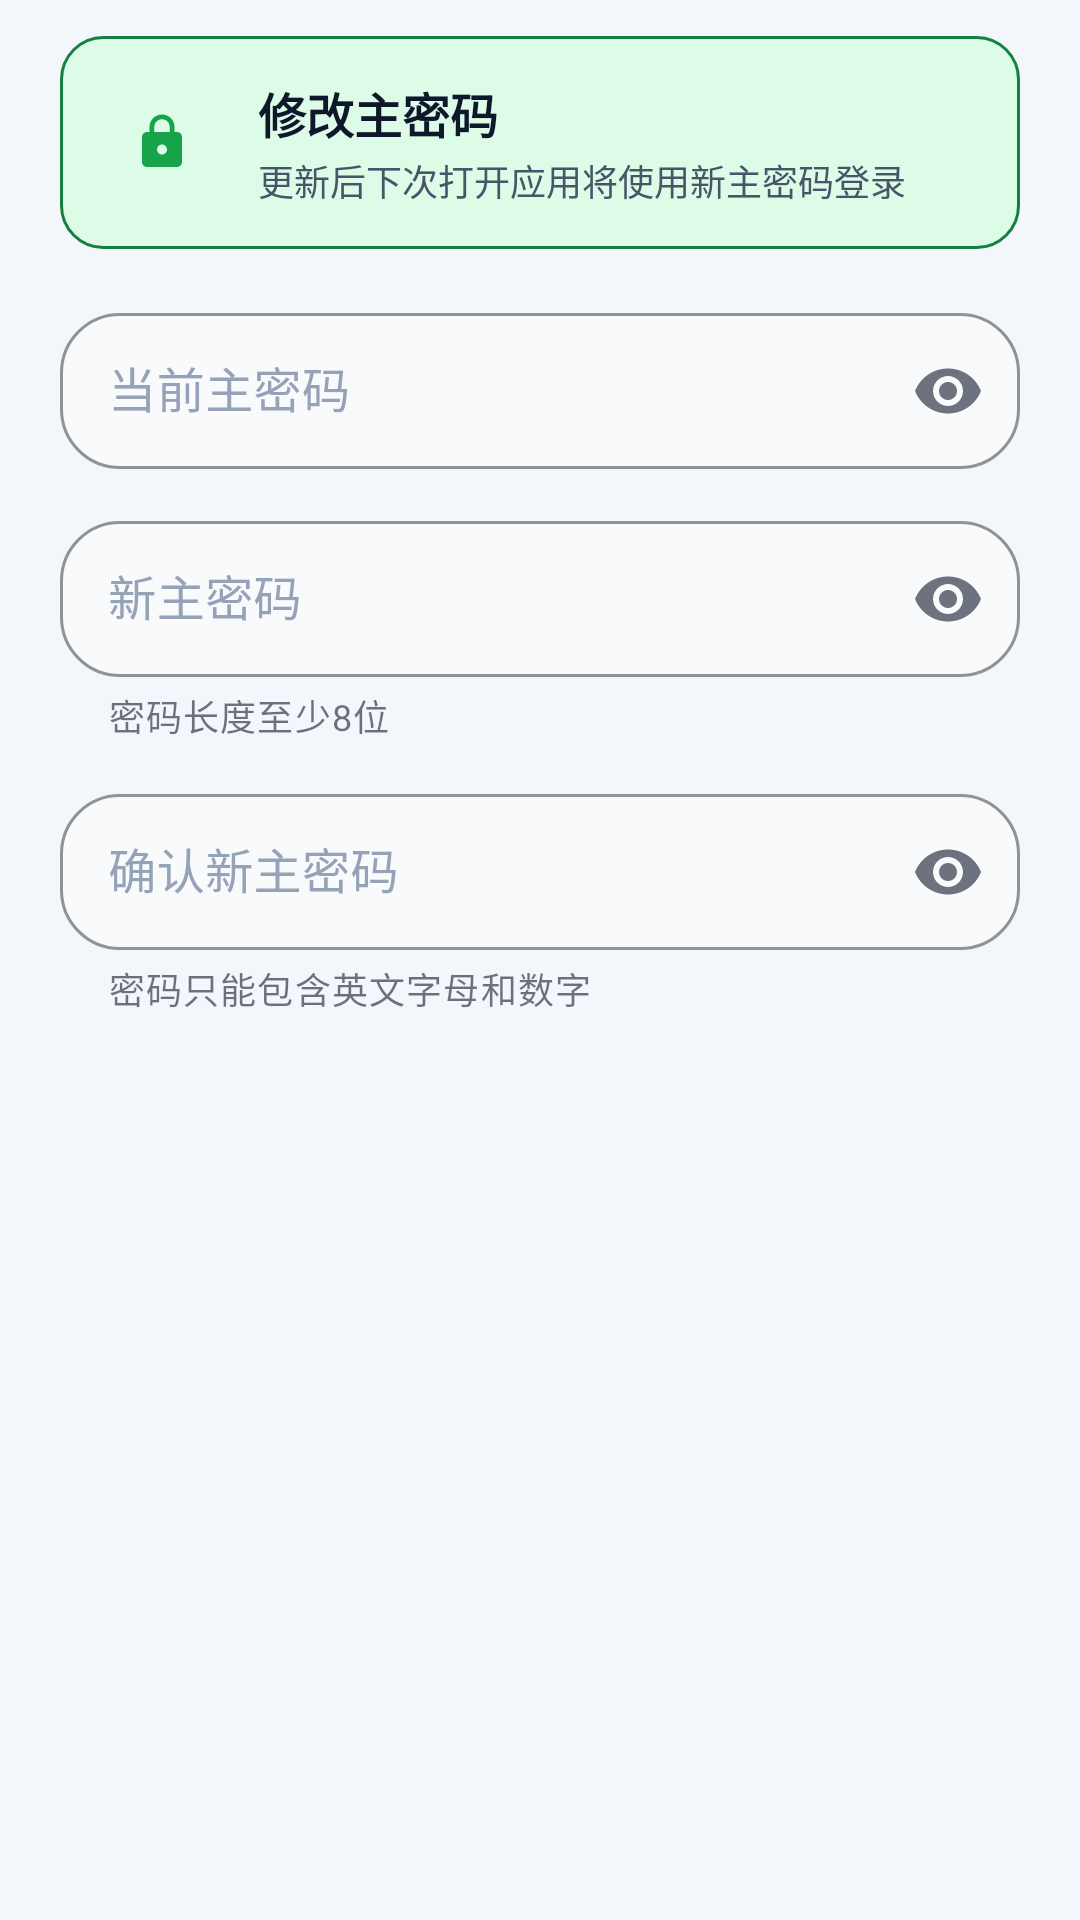

Named icons in this screenshot (1080w x 1920h) and their bounding boxes, bbox=(x1, y1, x2, y2):
lock: bbox=(142, 114, 182, 167)
